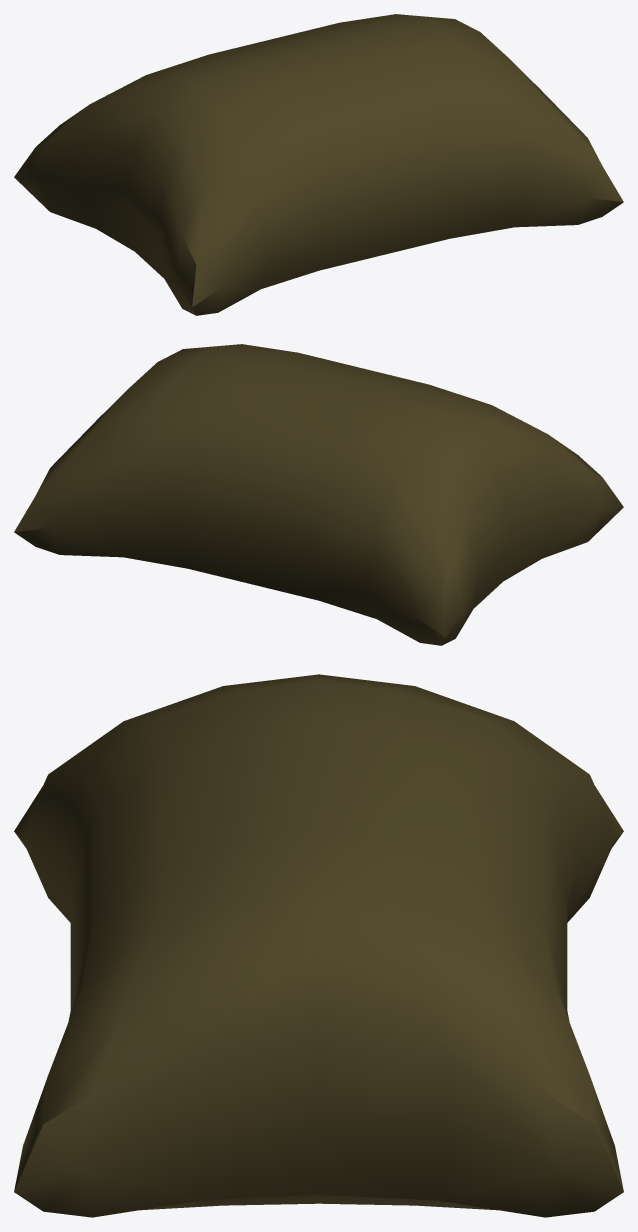
File: pq_sac_couche.glb
3 renders of one model, top to bottom at view 1: azimuth 30°, elevation 25°; view 2: azimuth 150°, elevation 25°; view 3: azimuth 270°, elevation 25°, orthographic. The views are drawn at different scales.
Parts seen in each view (by area): view 1: Bag; view 2: Bag; view 3: Bag.
Part boxes in pixels (x1,y1,x2,y2): Bag: (14, 14, 623, 315); Bag: (14, 344, 623, 645); Bag: (14, 674, 623, 1217).
Size of the model in its own units: 0.8 by 0.3043 by 0.5715.
